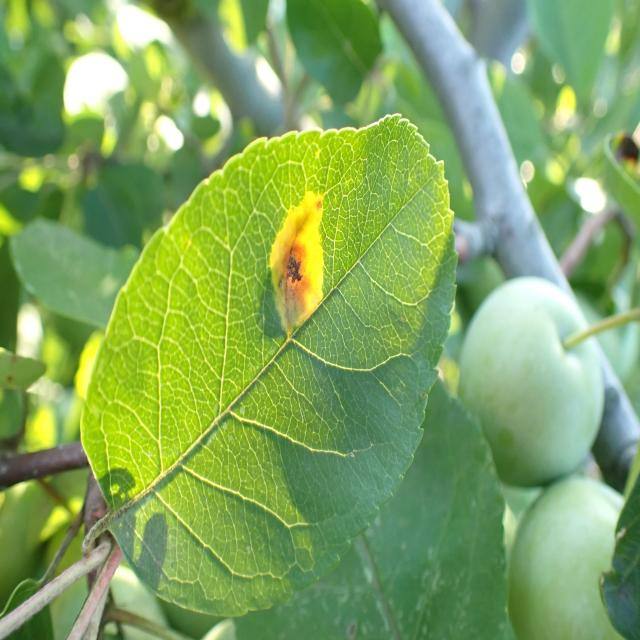Rust: (258, 175, 350, 341)
